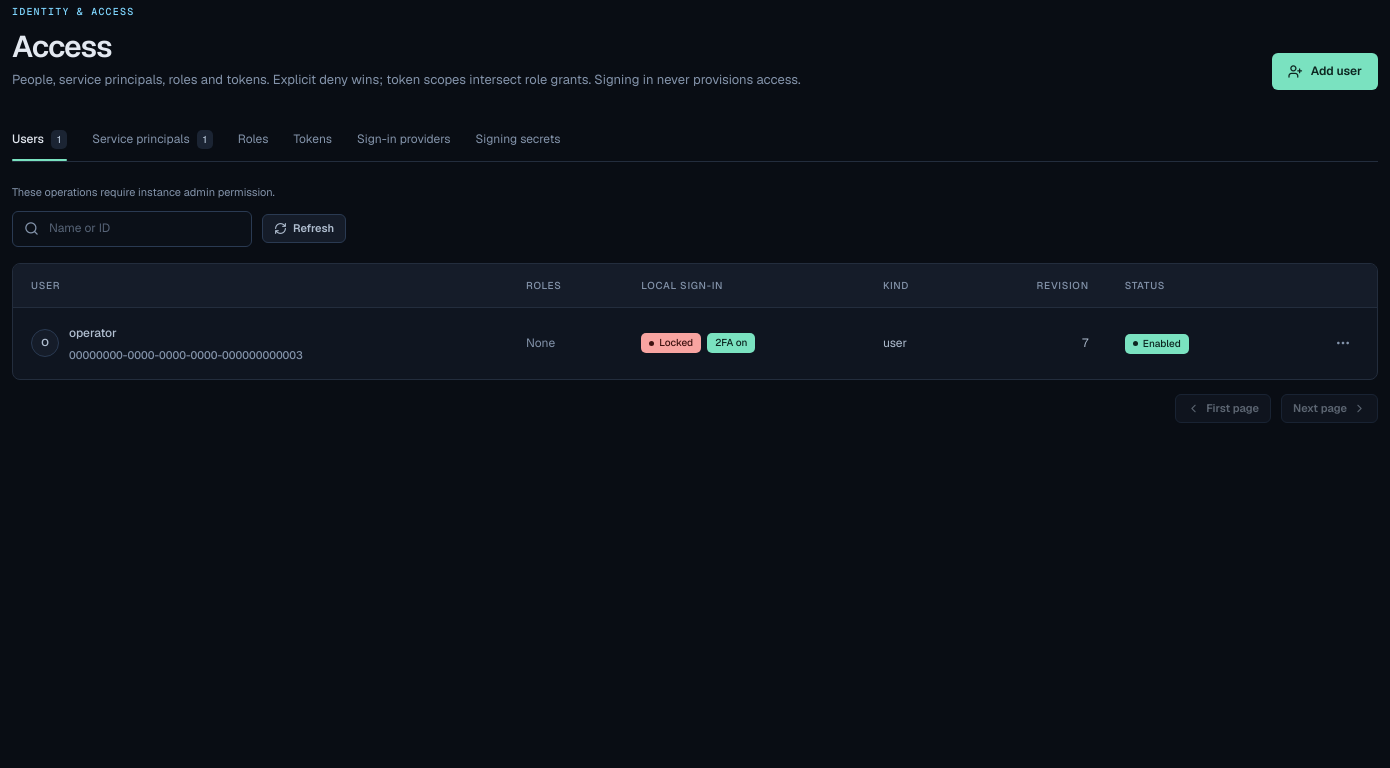
Test: shows lockout and second-factor state for local users and unlocks without a password reset
The width and height of the screenshot is (1390, 768).
Expected: the text "Locked" is shown, [641,333,701,353]
Expected: the text "2FA on" is shown, [707,333,756,353]
Click the button named "Actions for operator".
click(1343, 343)  # box [1327,327,1359,359]
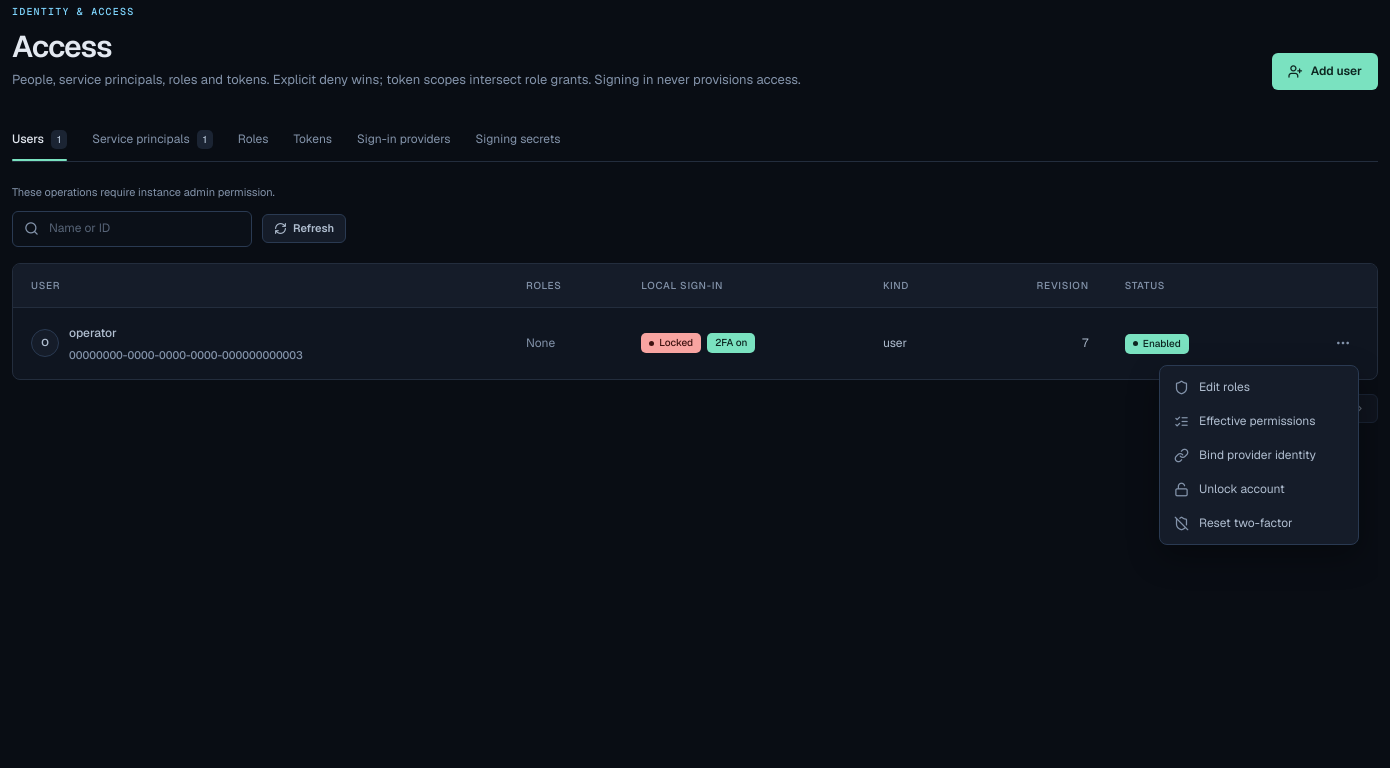
Click the menu item "Unlock account".
click(1259, 489)  # box [1164,472,1354,506]
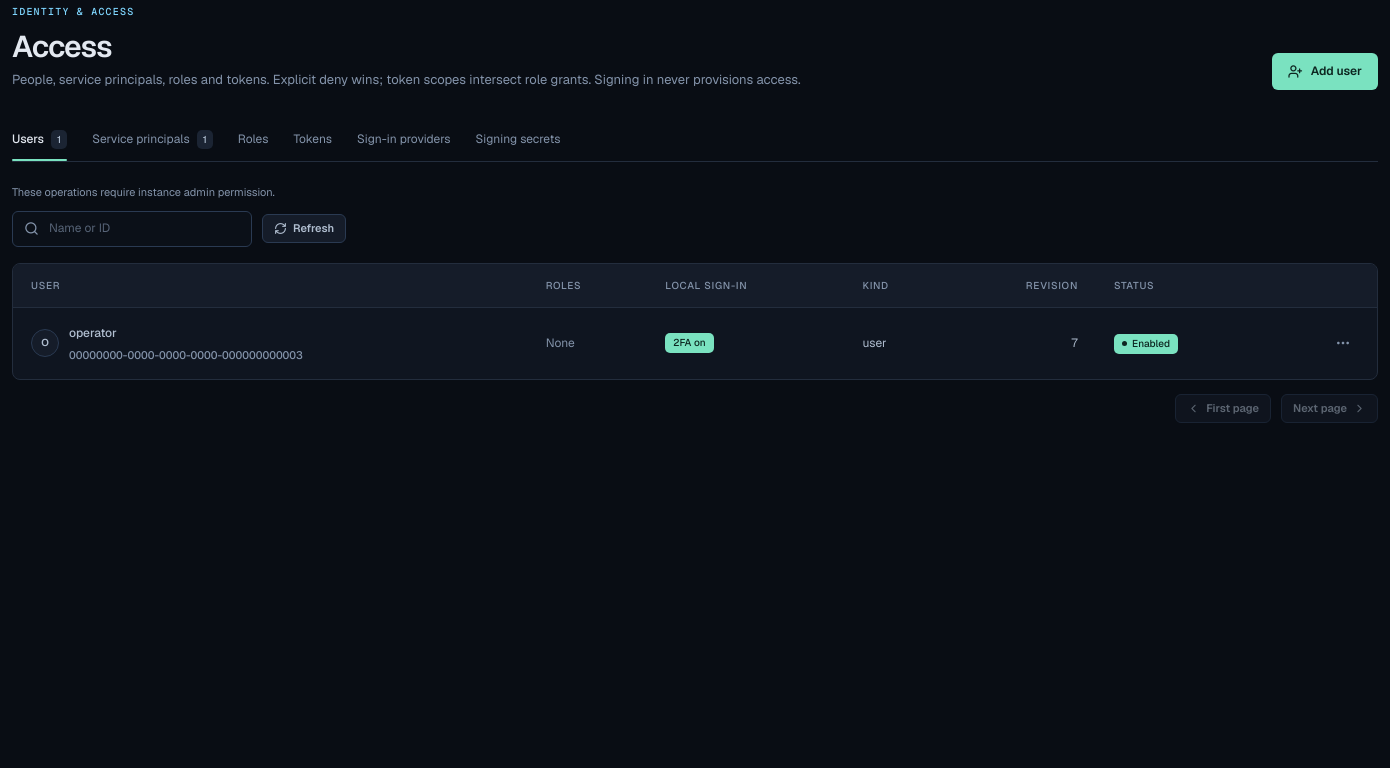
Result: the text "Locked" is gone
